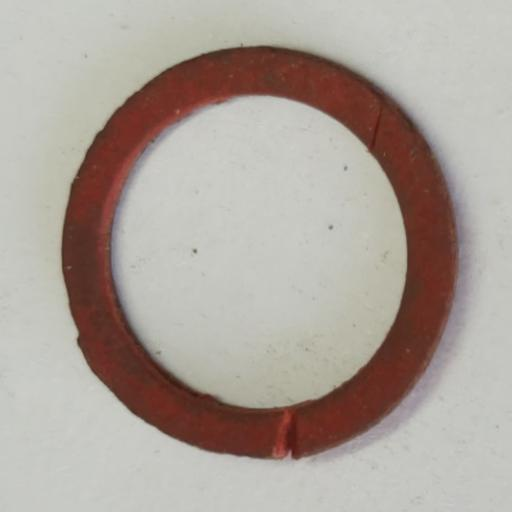defect: (272, 407, 297, 461), (369, 102, 384, 152)
